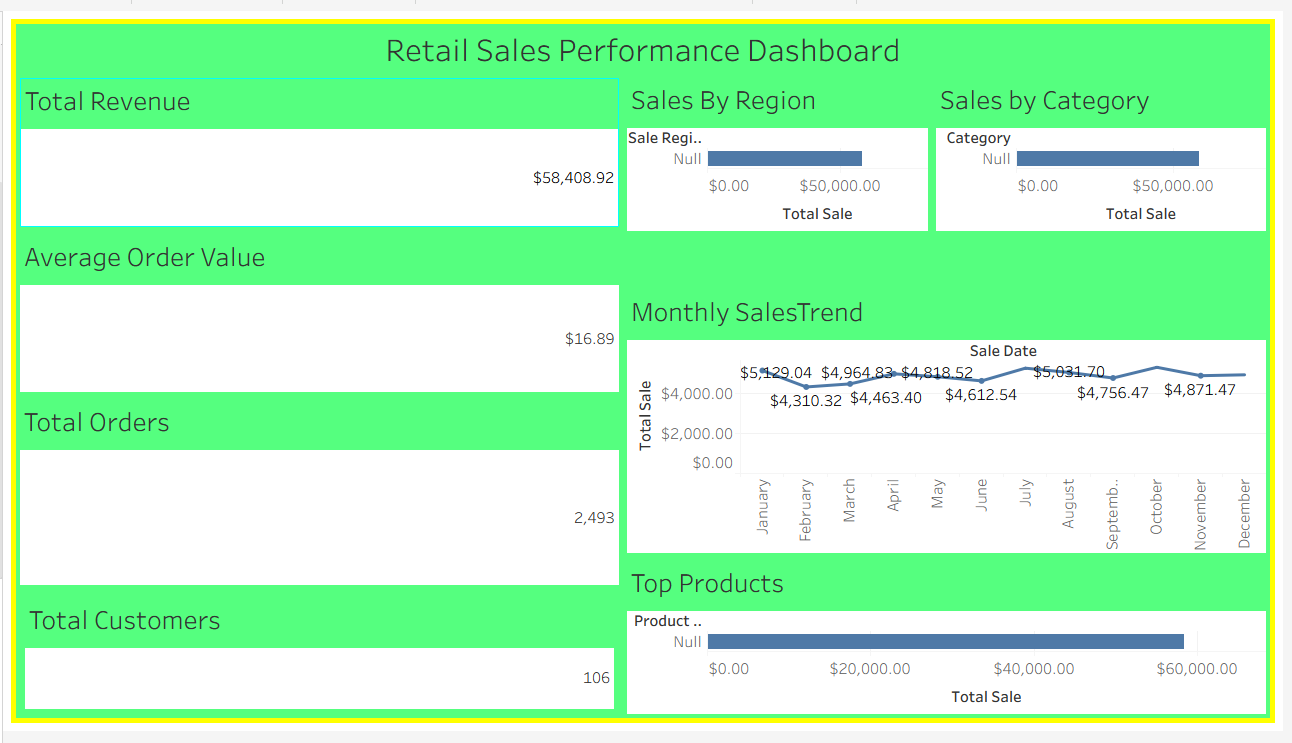

Layout of this report page (visuals, bound fields, positions):
{"tool":"tableau","page":{"name":"Retail Sales Performance Dashboard","canvas":[1280,720],"ordinal":0},"visuals":[{"type":"title","box":[13,13,1254,50]},{"type":"worksheet","title":"KPI-Total Revenue","mark":"Text","box":[13,63,607.1,157.3]},{"type":"worksheet","title":"Sales By Region","mark":"Automatic","rows":["sale_region"],"cols":["total_sale"],"box":[620.1,63,309,211.9]},{"type":"worksheet","title":"Sales by Category","mark":"Automatic","rows":["category"],"cols":["total_sale"],"box":[929.2,63,337.8,211.9]},{"type":"worksheet","title":"KPI-AOV","mark":"Text","box":[13,220.3,607.1,164.7]},{"type":"worksheet","title":"Monthly SalesTrend","mark":"Automatic","rows":["total_sale"],"cols":["sale_date"],"box":[620.1,274.9,646.8,271.1]},{"type":"worksheet","title":"KPI-Total Orders","mark":"Text","box":[13,385,607.1,193.5]},{"type":"worksheet","title":"Top Products","mark":"Automatic","rows":["product_name"],"cols":["total_sale"],"box":[620.1,546,646.8,161]},{"type":"worksheet","title":"KPI-Total Customers ","mark":"Text","box":[13,578.5,607.1,128.5]}]}

Visuals, with their boxes in screenshot pixels (x1, y1, x2, y2), scaled from the page's 1280x720 canvas onto the 1292x743 screenshot:
title: [13,13,1279,65]
"KPI-Total Revenue" worksheet (Text marks): [13,65,626,227]
"Sales By Region" worksheet: [626,65,938,284]
"Sales by Category" worksheet: [938,65,1279,284]
"KPI-AOV" worksheet (Text marks): [13,227,626,397]
"Monthly SalesTrend" worksheet: [626,284,1279,563]
"KPI-Total Orders" worksheet (Text marks): [13,397,626,597]
"Top Products" worksheet: [626,563,1279,730]
"KPI-Total Customers " worksheet (Text marks): [13,597,626,730]
